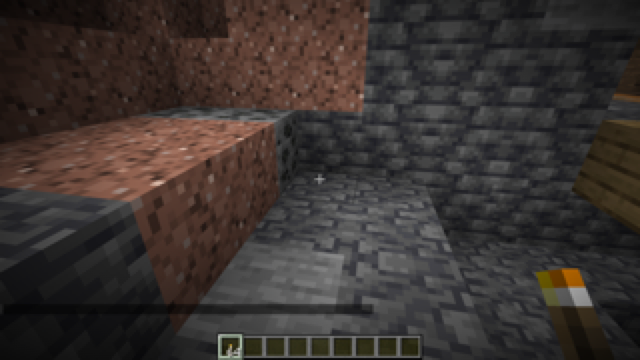coal: (145, 99, 297, 186)
